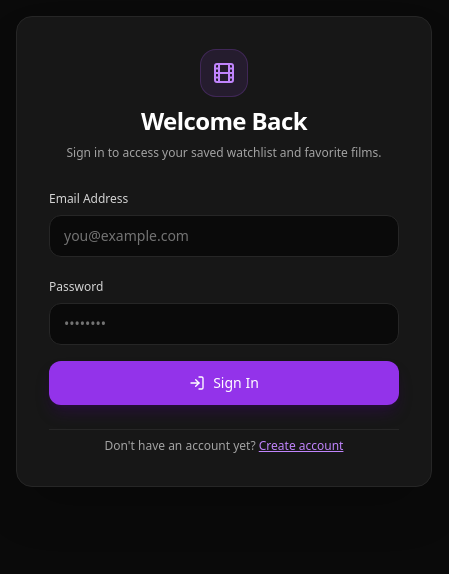
LoginPage Component › displays error message when credentials are wrong
Type "wrong@example.com" into the field named "email address" at (224, 236), box left=49, top=215, right=399, bottom=257
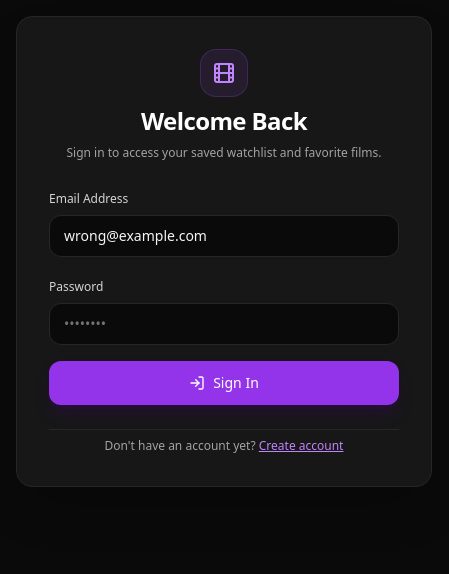
Type "badpassword" into the password field named "password" at (224, 324), box left=49, top=303, right=399, bottom=345
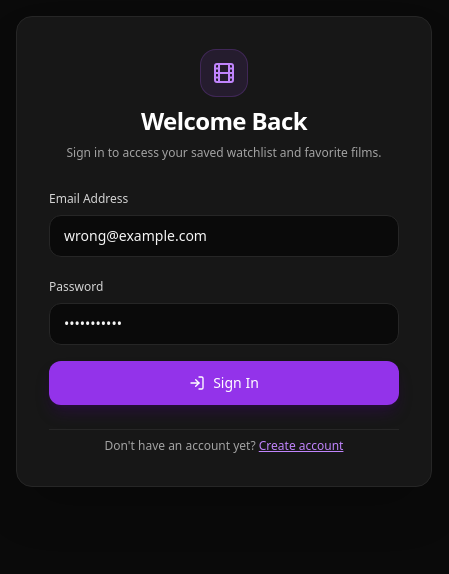
Click the button "Sign In" at (224, 383), box left=49, top=361, right=399, bottom=405
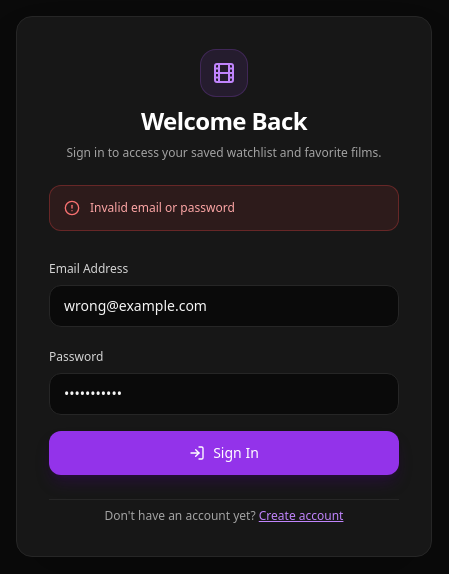
expect the text "Invalid email or password" is shown: met, box left=90, top=200, right=235, bottom=216
